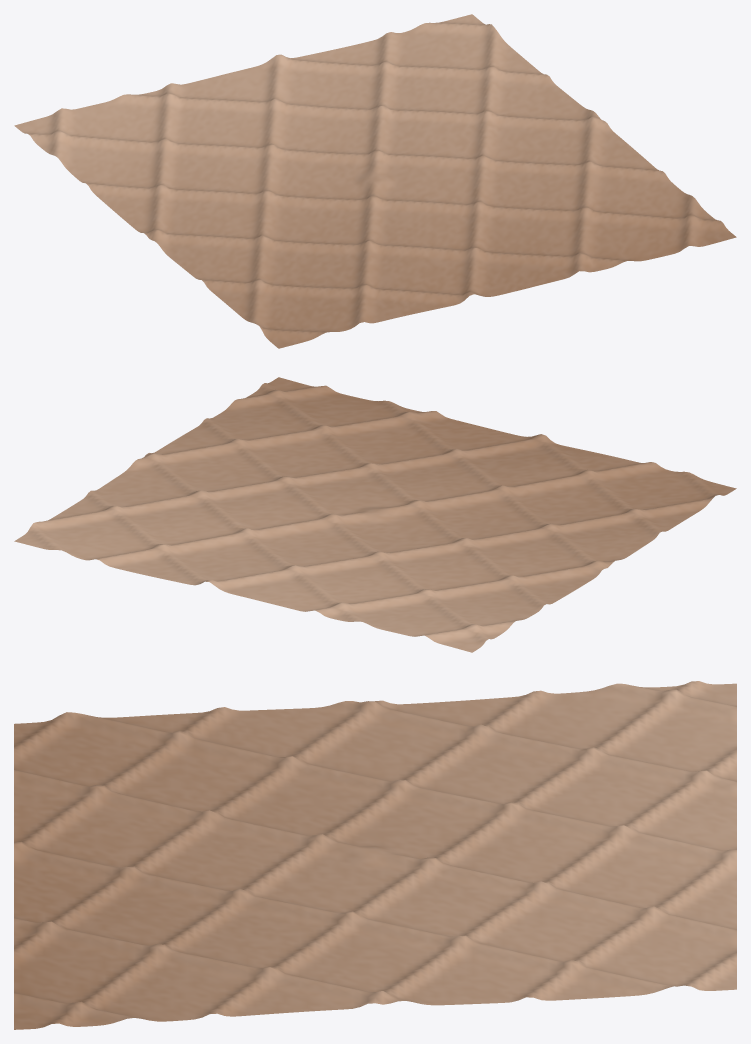
Rendered from curiosity_gale_boxwork.glb.
The picture shows the model from 3 angles, top to bottom: view 1: azimuth 30°, elevation 25°; view 2: azimuth 150°, elevation 25°; view 3: azimuth 270°, elevation 25°; orthographic projection. The views are drawn at different scales.
Parts seen in each view (by area): view 1: TYPE_TILE_ID_0___MD_1_Curiosity_Mount_Sharp_Boxwork; view 2: TYPE_TILE_ID_0___MD_1_Curiosity_Mount_Sharp_Boxwork; view 3: TYPE_TILE_ID_0___MD_1_Curiosity_Mount_Sharp_Boxwork.
Boxes of the visible parts, box(x1,y1,x2,y2) form: TYPE_TILE_ID_0___MD_1_Curiosity_Mount_Sharp_Boxwork: box(14, 14, 736, 348); TYPE_TILE_ID_0___MD_1_Curiosity_Mount_Sharp_Boxwork: box(14, 377, 736, 652); TYPE_TILE_ID_0___MD_1_Curiosity_Mount_Sharp_Boxwork: box(14, 681, 736, 1029).
Bounding box in the file's own units: 120 × 9.43 × 120.
